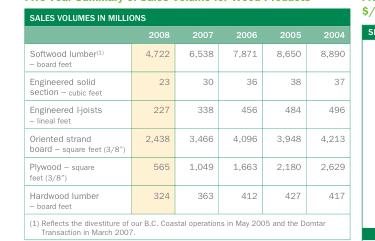table: (28, 29, 344, 210)
table column: (28, 29, 134, 210), (134, 29, 178, 210), (178, 29, 222, 210), (222, 29, 266, 210), (266, 29, 309, 210), (309, 29, 344, 210)
table column header: (28, 29, 344, 43)
table row: (28, 71, 344, 100), (28, 128, 344, 157), (28, 43, 344, 71), (28, 100, 344, 128), (28, 157, 344, 185), (28, 185, 344, 210), (28, 29, 344, 43)
